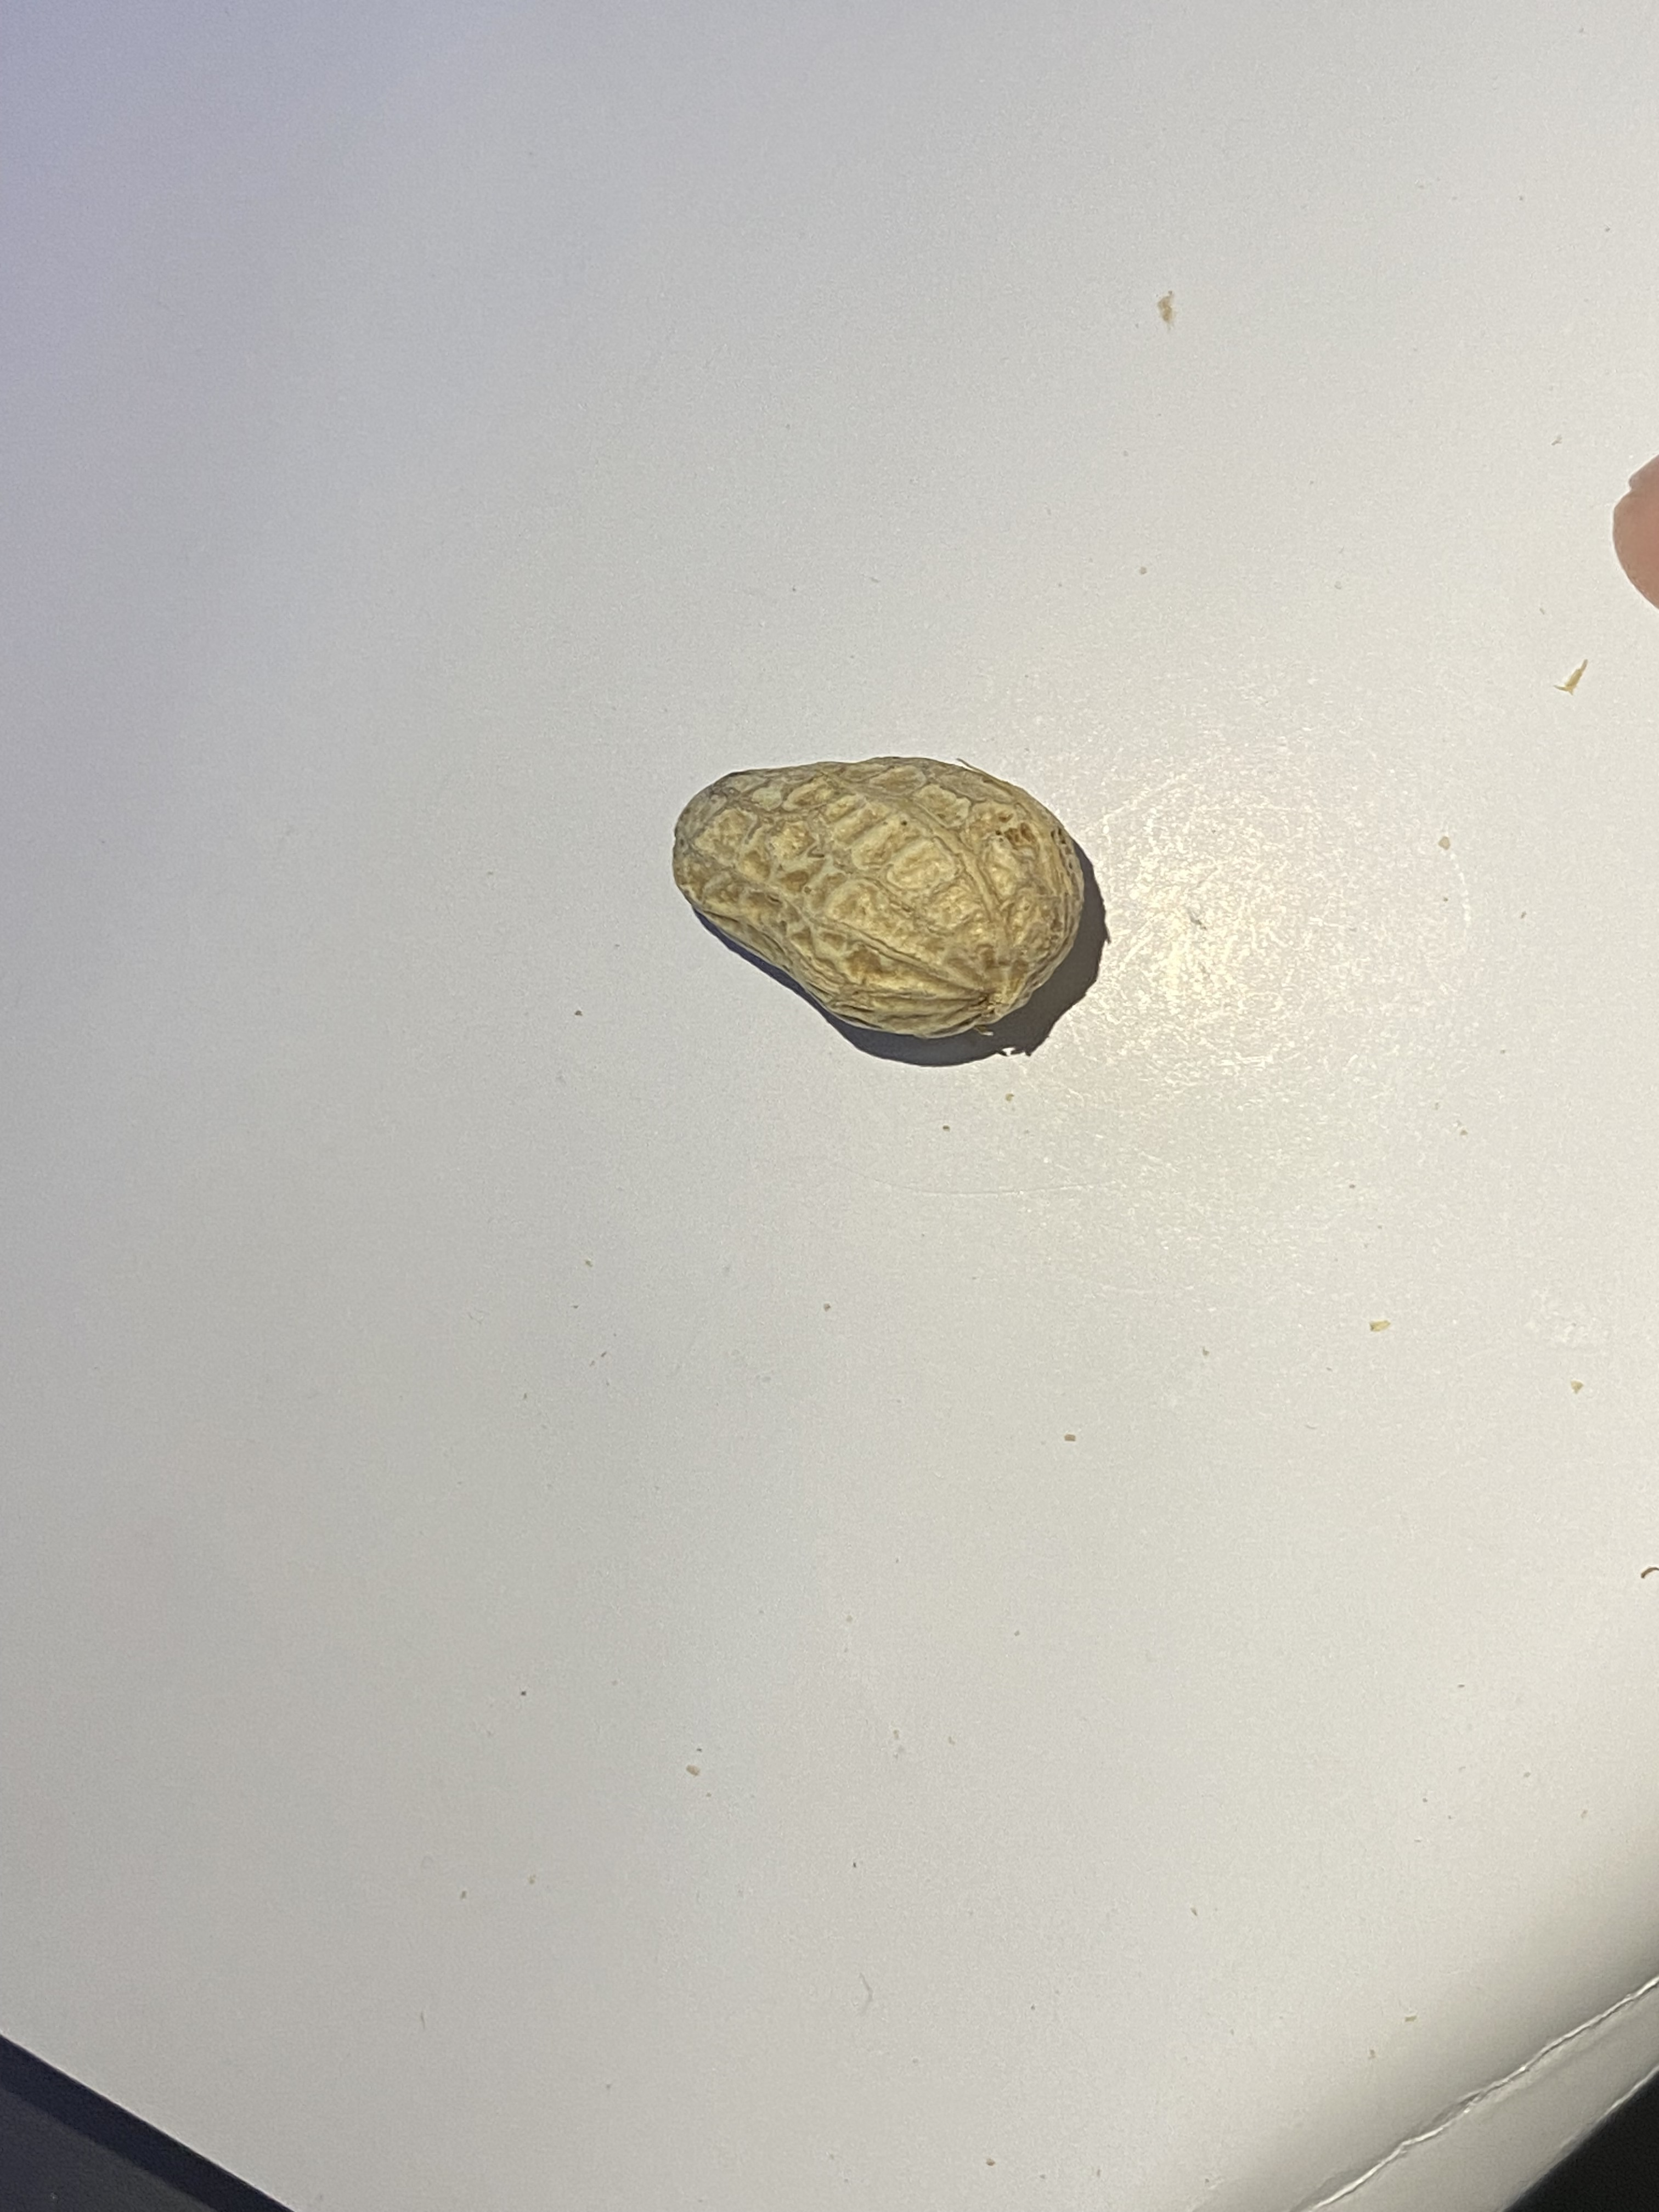kacang1: (657, 745, 1108, 1061)
